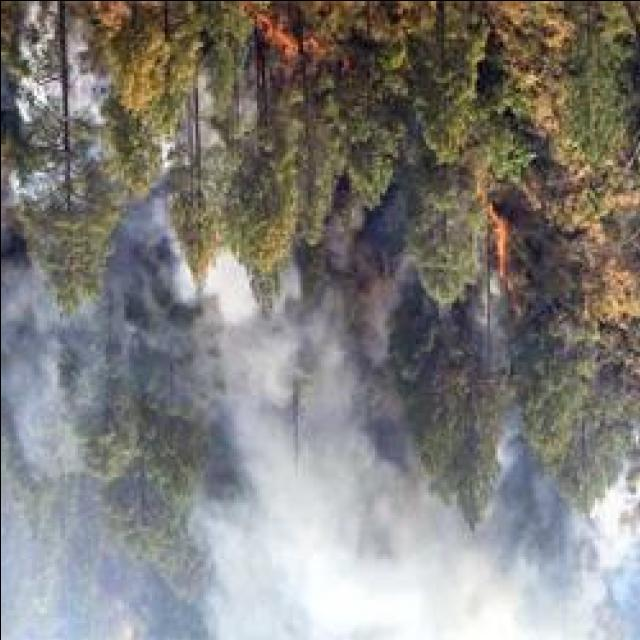smoke: (0, 272, 107, 469), (296, 515, 464, 630), (452, 541, 624, 639), (242, 416, 330, 540), (297, 358, 372, 466), (240, 346, 288, 418), (602, 488, 638, 560), (214, 268, 244, 324), (68, 76, 94, 112)
